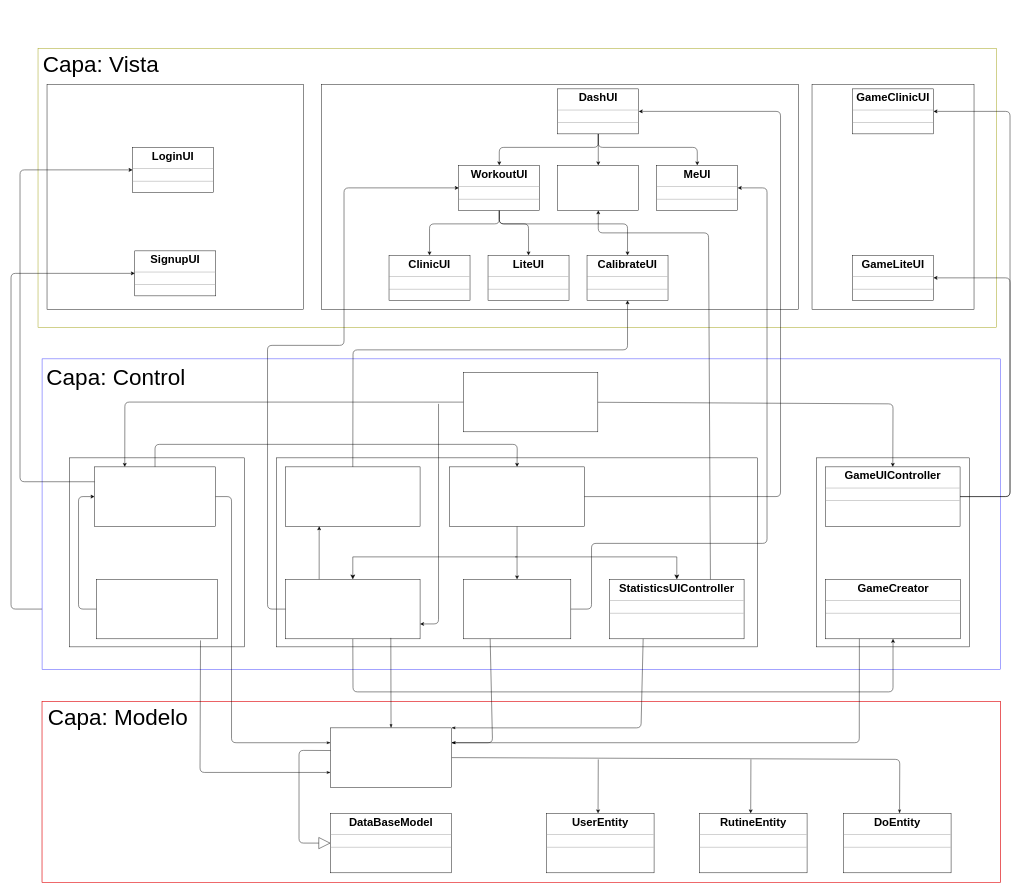
The diagram is 1022 pixels wide and 891 high, and some of its shapes have lost their labels. The shapes that lost their labels are listed below. From the top down, each one's centre as x and y in pixels, then its label:
(x=598, y=187): StatisticsUI
(x=530, y=402): GameManager
(x=155, y=496): LoginUIController
(x=352, y=496): CalibrateUIController
(x=516, y=496): DashUIController
(x=157, y=609): SignupUIController
(x=352, y=609): WorkoutUIController
(x=517, y=609): MeUIController
(x=391, y=757): CibiofibDb
